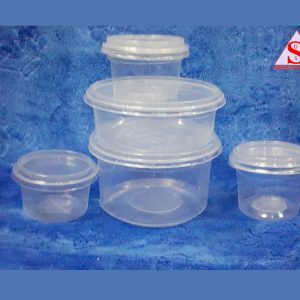PlasticBox: (9, 148, 100, 225)
